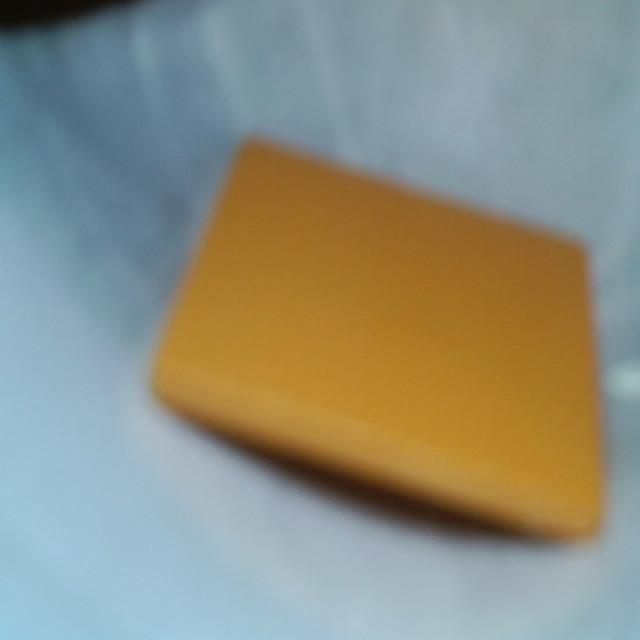square: (154, 143, 601, 531)
